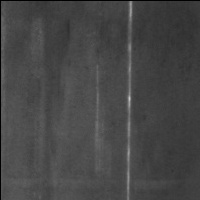scratches: (123, 1, 137, 199)
